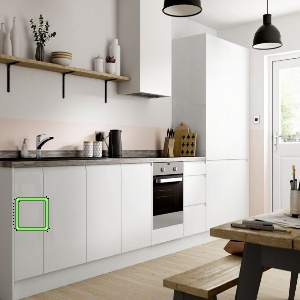square: (13, 196, 49, 231)
